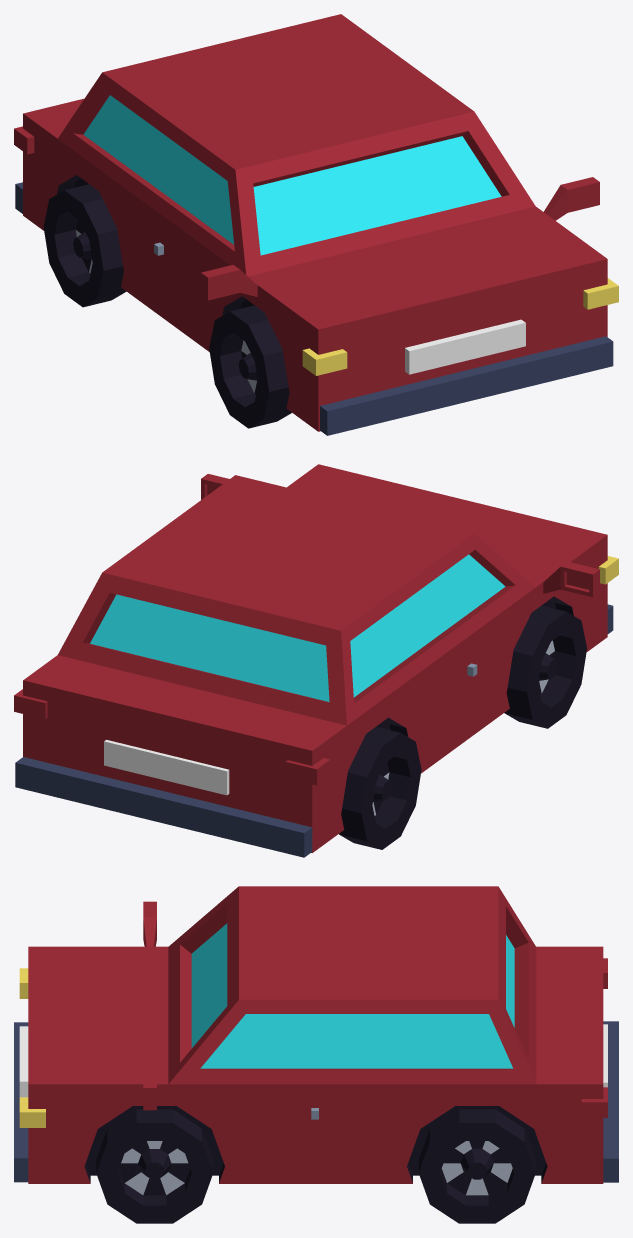
File: car9.fbx
3 renders of one model, top to bottom at view 1: azimuth 30°, elevation 25°; view 2: azimuth 150°, elevation 25°; view 3: azimuth 270°, elevation 25°, orthographic. The views are drawn at different scales.
Parts seen in each view (by area): view 1: Car-red; view 2: Car-red; view 3: Car-red.
Part boxes in pixels (x1=…): Car-red: x1=14, y1=14, x2=618, y2=435; Car-red: x1=14, y1=464, x2=618, y2=857; Car-red: x1=14, y1=886, x2=618, y2=1223.
Bounding box in the file's own units: 2.71 × 1.39 × 3.72.
